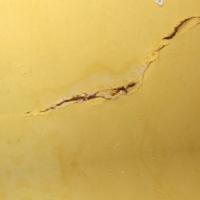crack: (37, 26, 181, 107)
